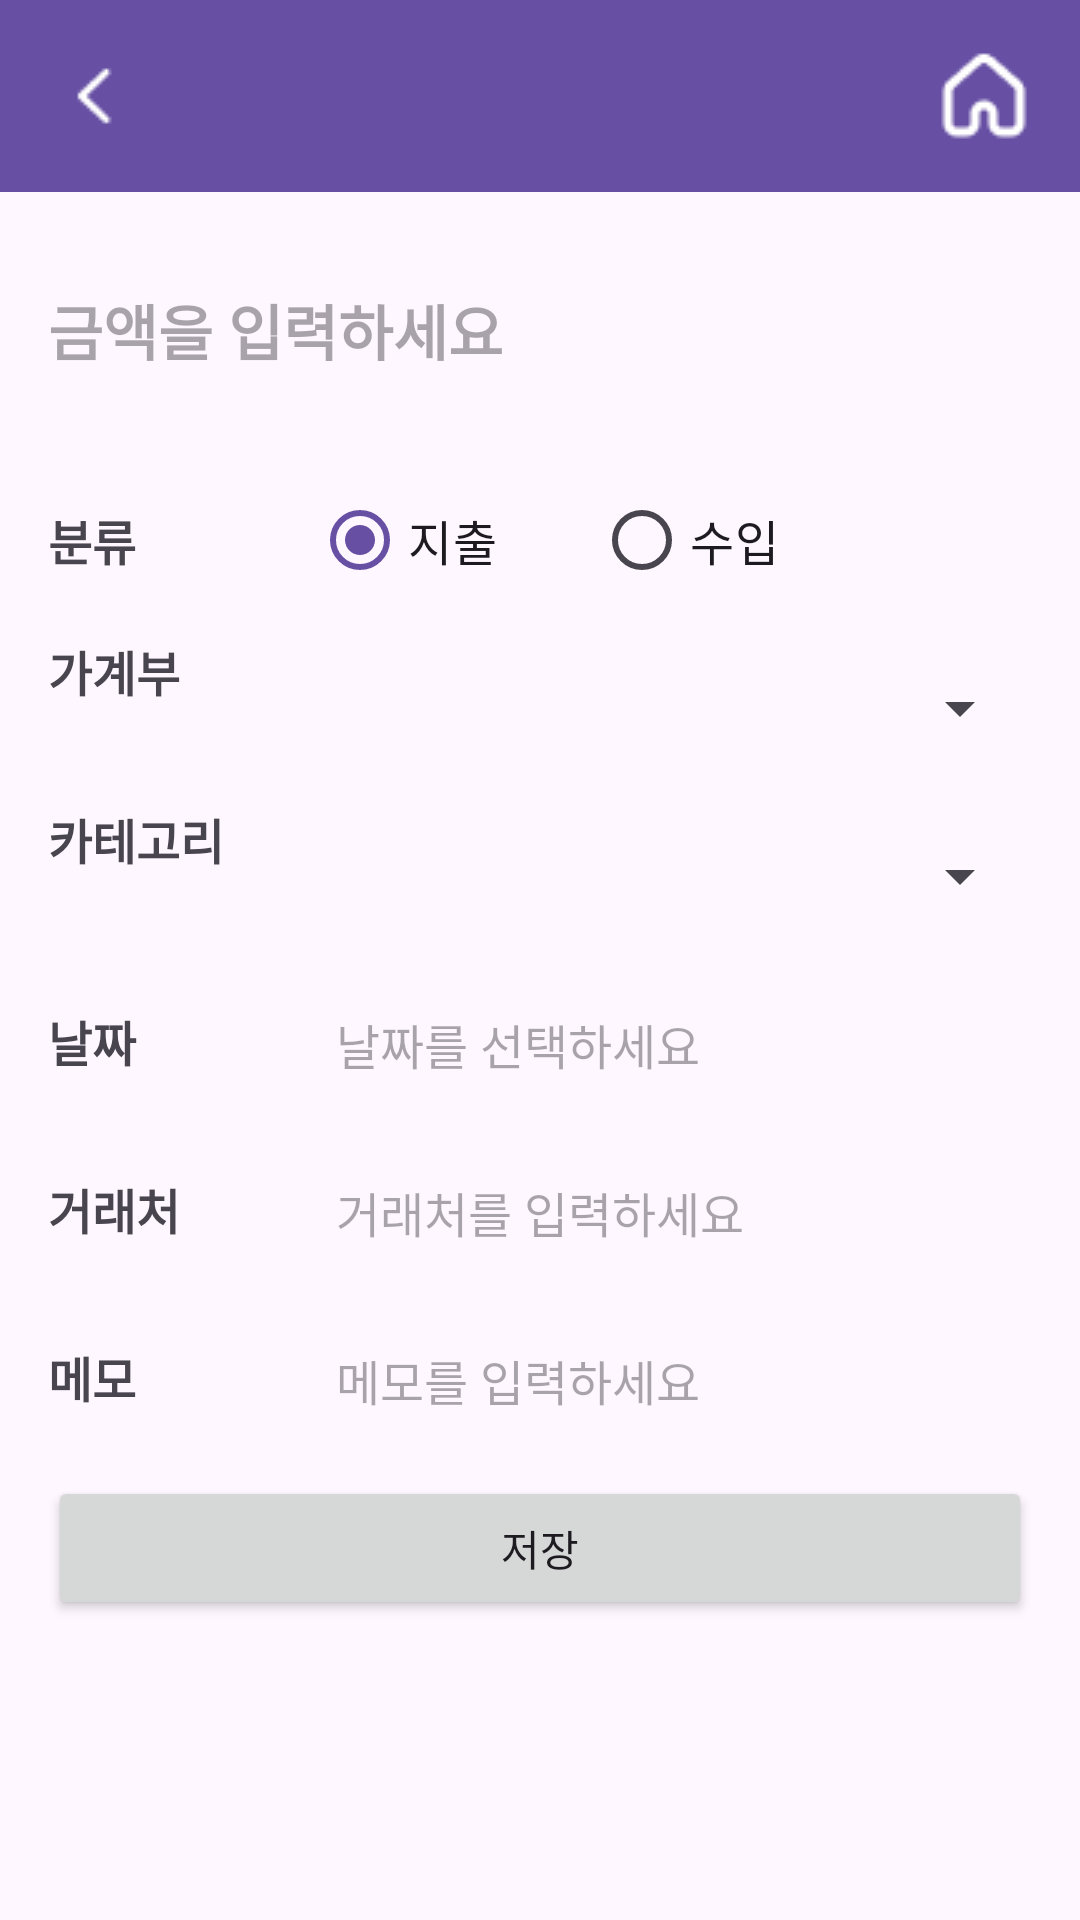

Point at icon controls on the screen. Image size 1080w x 1920h, points as (x=x, y=y).
뒤로가기: (x=94, y=96)
홈으로 가기: (x=984, y=96)
